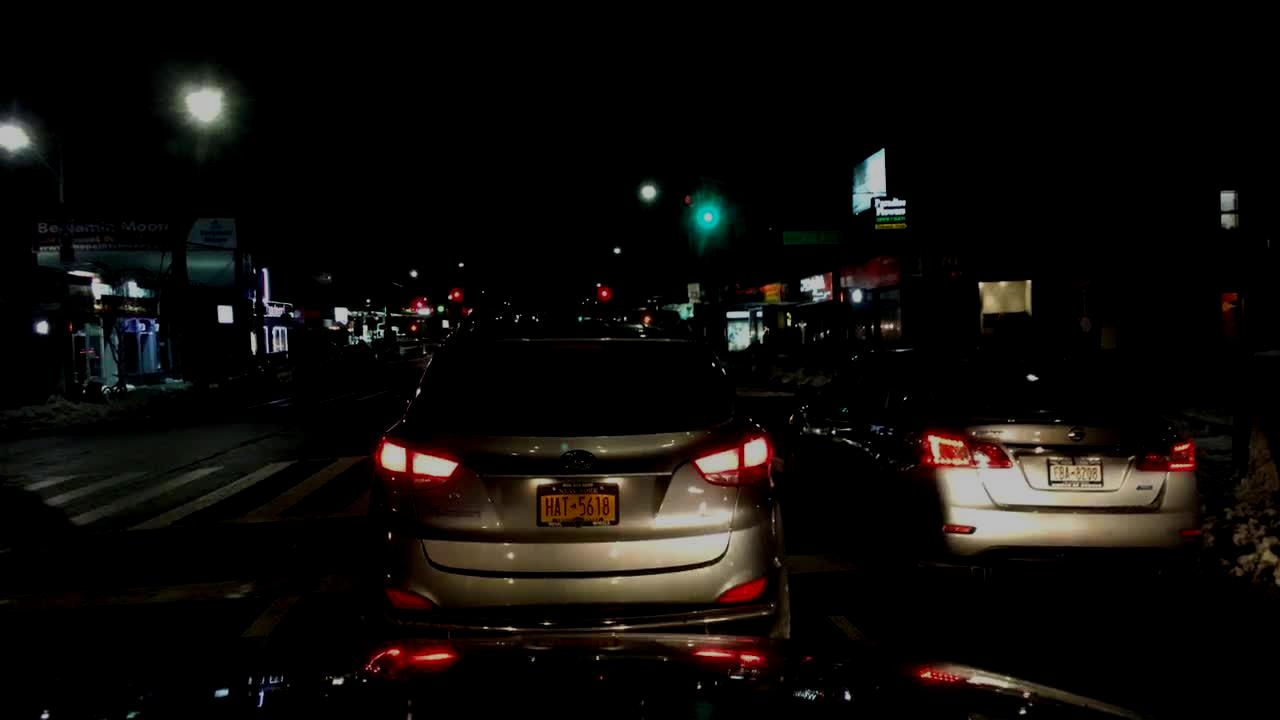Hyundai: (560, 447, 597, 474)
